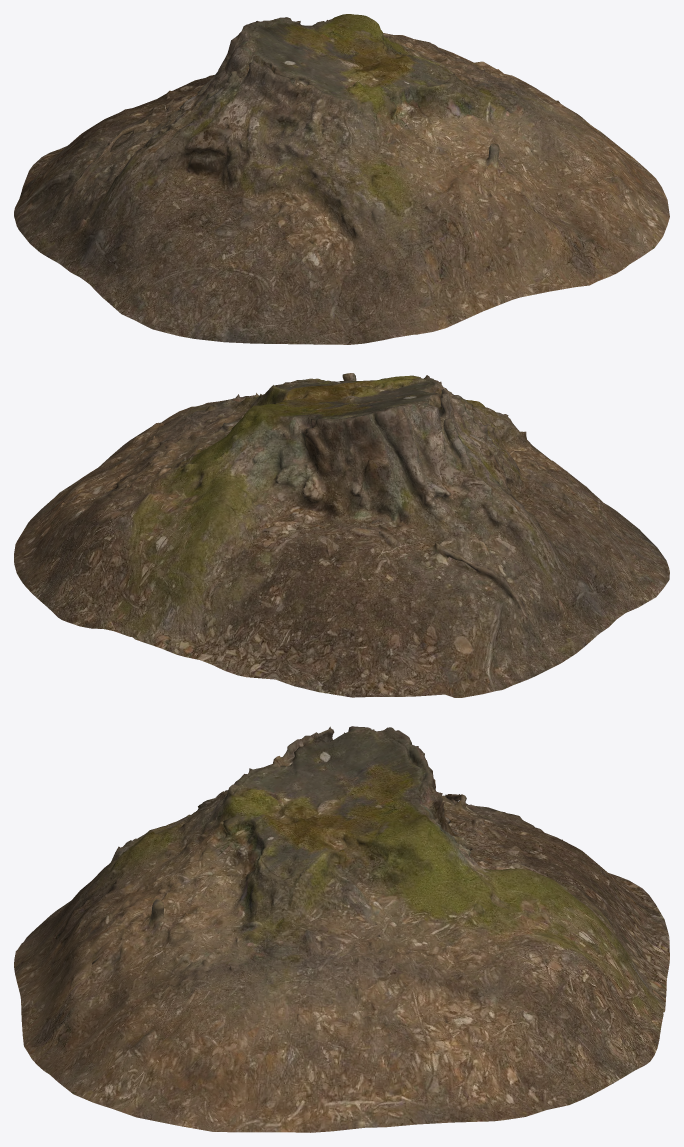
The model's file is tree-stump-02.glb.
3 views of the same model, one above another, from view 1: azimuth 30°, elevation 25°; view 2: azimuth 150°, elevation 25°; view 3: azimuth 270°, elevation 25° (orthographic). The views are drawn at different scales.
Parts seen in each view (by area): view 1: tree_stump_02; view 2: tree_stump_02; view 3: tree_stump_02.
Part boxes in pixels (x1,y1,x2,y2): tree_stump_02: (14, 14, 669, 344); tree_stump_02: (14, 373, 669, 697); tree_stump_02: (14, 726, 669, 1132).
Bounding box in the file's own units: 1.52 × 0.522 × 1.39.
Materials: 1 (1 with a texture image).
